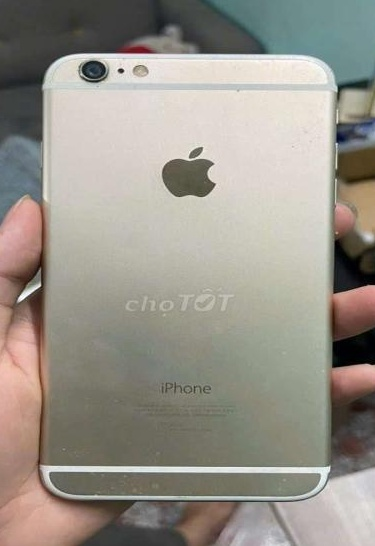scratch: (74, 446, 296, 504)
